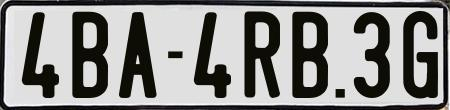3: (352, 9, 392, 99)
4: (194, 11, 234, 101), (19, 10, 57, 97)
A: (117, 9, 160, 97)
B: (71, 9, 107, 97), (289, 10, 325, 97)
G: (403, 9, 437, 102)
R: (241, 9, 282, 99)
